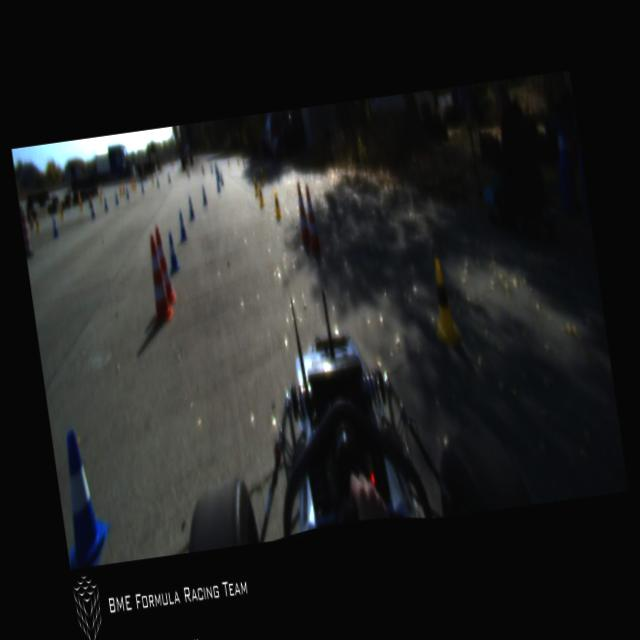blue_cone: (51, 424, 116, 568), (164, 230, 180, 274), (177, 210, 188, 242), (187, 196, 195, 221), (52, 218, 58, 240), (201, 186, 208, 204), (90, 204, 97, 220), (114, 193, 120, 205), (140, 180, 145, 193), (125, 187, 130, 199), (216, 178, 220, 192), (220, 173, 224, 186), (104, 198, 108, 211), (156, 176, 160, 187), (186, 168, 190, 178), (168, 174, 172, 184), (217, 171, 220, 181), (210, 164, 213, 173)
large_orange_cone: (142, 233, 172, 324), (154, 225, 178, 306), (302, 184, 324, 256), (292, 181, 310, 245)
unknown_cone: (130, 176, 134, 189), (121, 181, 125, 193)
yellow_cone: (427, 260, 462, 351), (272, 188, 282, 220), (256, 182, 264, 207), (252, 175, 259, 197), (78, 192, 84, 210), (260, 170, 266, 186), (35, 216, 41, 232), (59, 204, 64, 220), (132, 179, 138, 191), (99, 191, 103, 205), (118, 186, 122, 196), (201, 165, 205, 175), (227, 158, 231, 168), (151, 175, 155, 184), (237, 158, 240, 166), (242, 160, 245, 168)
